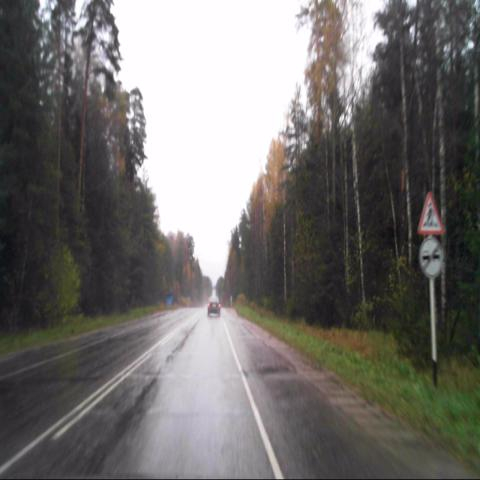3_21: (418, 236, 443, 279)
